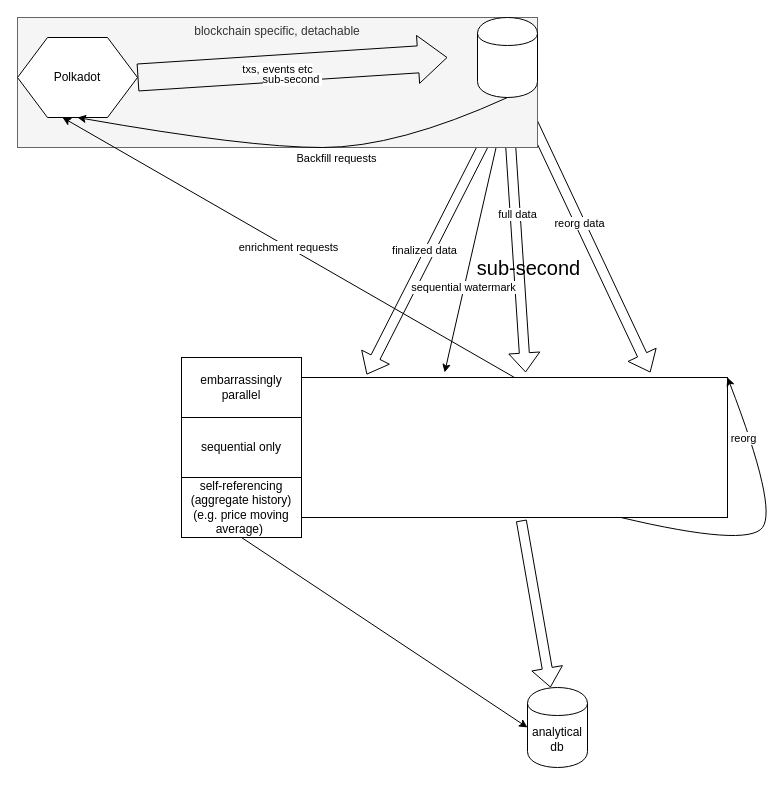
The diagram is 784 pixels wide and 785 high, and some of its shapes have lost their labels. Each missing label, with the centre of its shape:
analytical transformations: pixel 514 447
raw db: pixel 507 57
